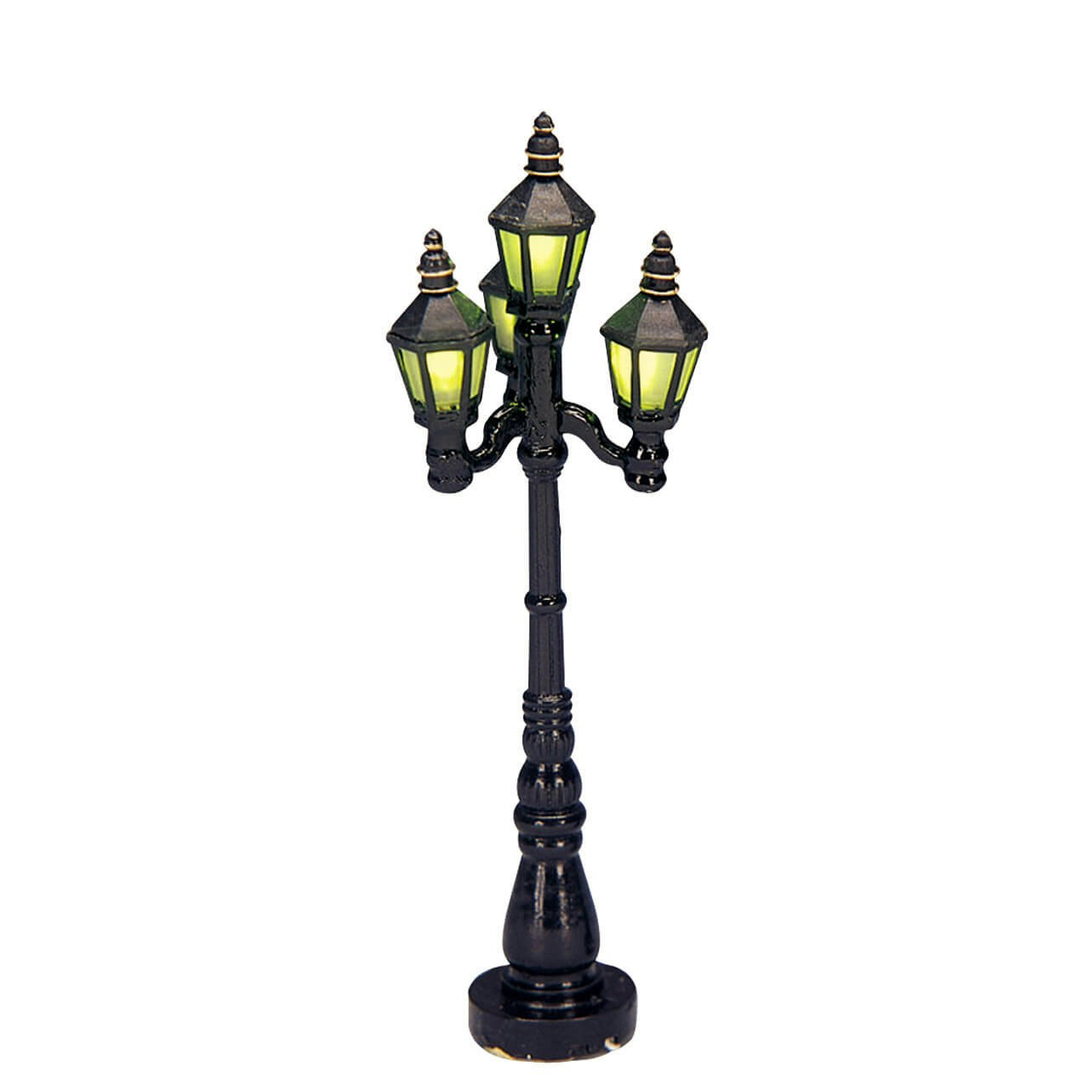Lamp: (384, 100, 703, 1062)
